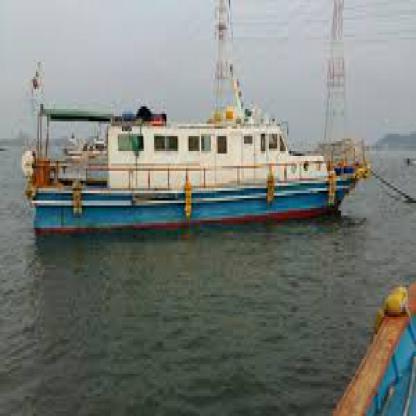fish-b: (19, 45, 383, 230)
